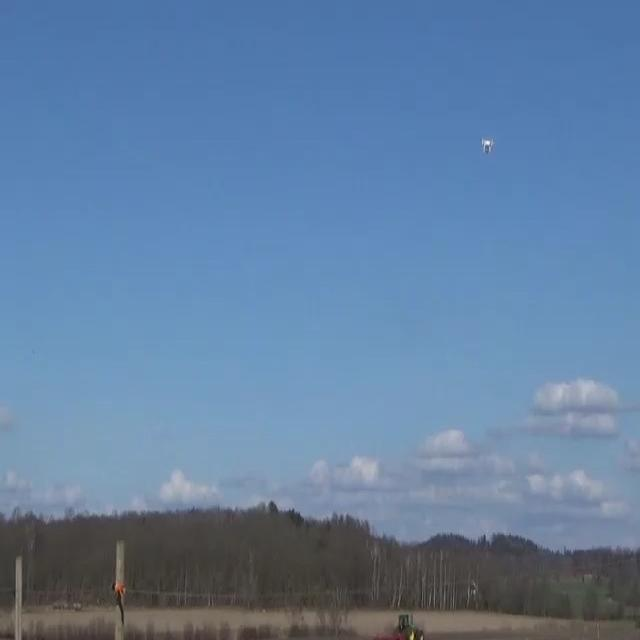drone: (480, 136, 494, 154)
